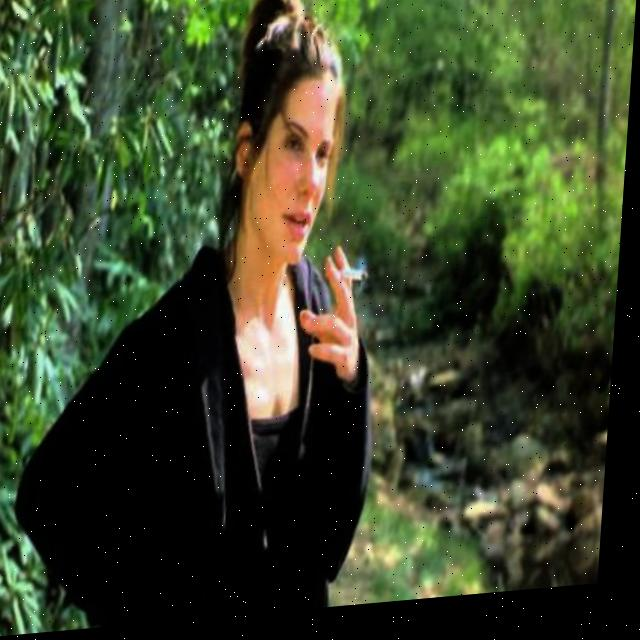cigarette: (346, 274, 374, 289)
